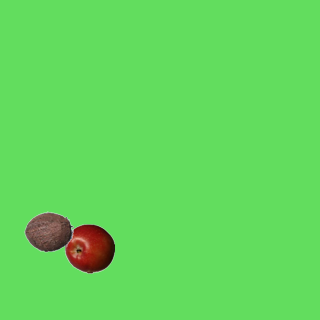Apple Braeburn: (64, 223, 114, 273)
Cocos: (23, 206, 73, 256)
